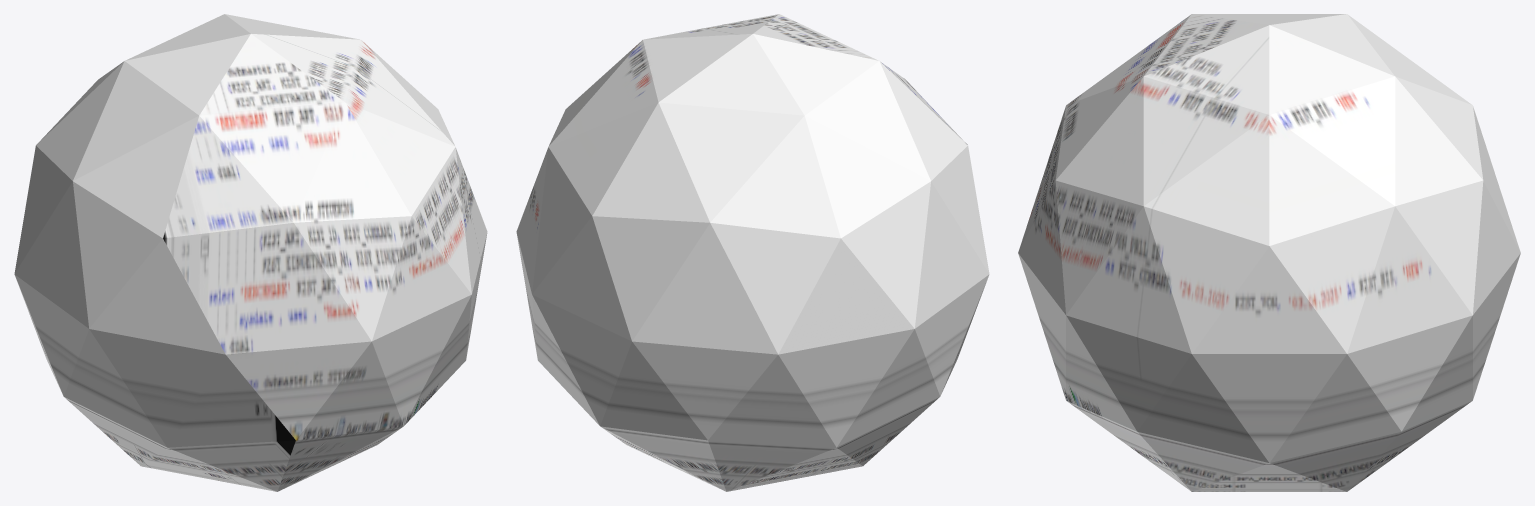
Rendered from shape_keys_noise.glb.
3 renders of one model, left to right at view 1: azimuth 30°, elevation 25°; view 2: azimuth 150°, elevation 25°; view 3: azimuth 270°, elevation 25°, orthographic. The views are drawn at different scales.
Parts seen in each view (by area): view 1: Icosphere; view 2: Icosphere; view 3: Icosphere.
Boxes of the visible parts, x1,y1,x2,y2 form: Icosphere: (14,14,487,491); Icosphere: (516,14,989,491); Icosphere: (1018,14,1520,491).
Size of the model in its own units: 1.9 by 2 by 2.
1 material, 1 textured.
